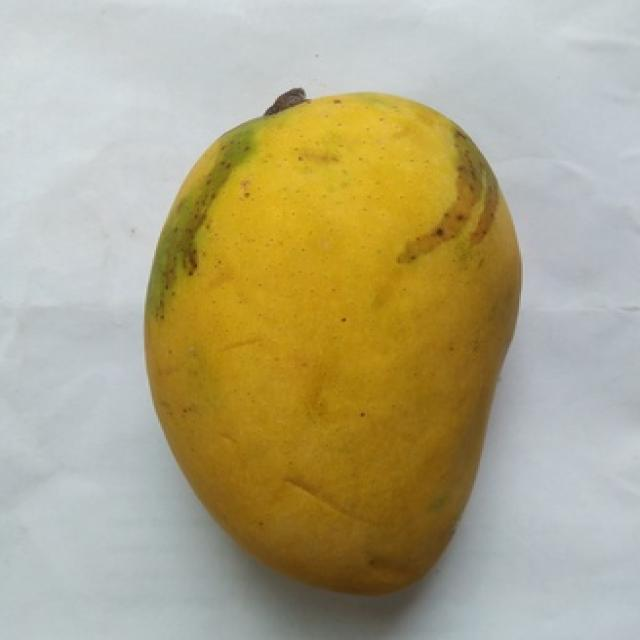Mango: (144, 94, 517, 592)
